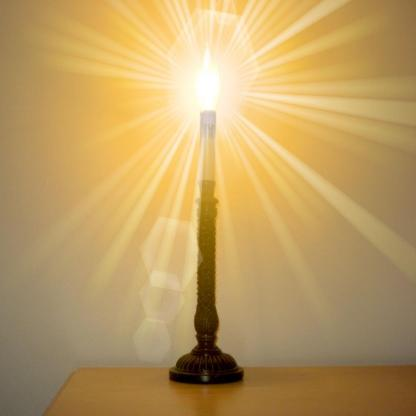other: (181, 46, 243, 110)
